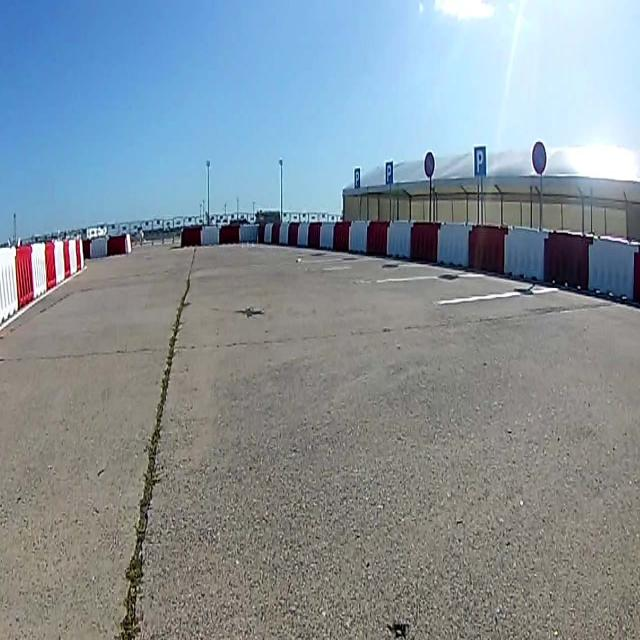park: (473, 147, 487, 177), (385, 161, 393, 185), (354, 168, 361, 188)
parkyasak: (532, 142, 547, 174), (424, 152, 434, 179)
